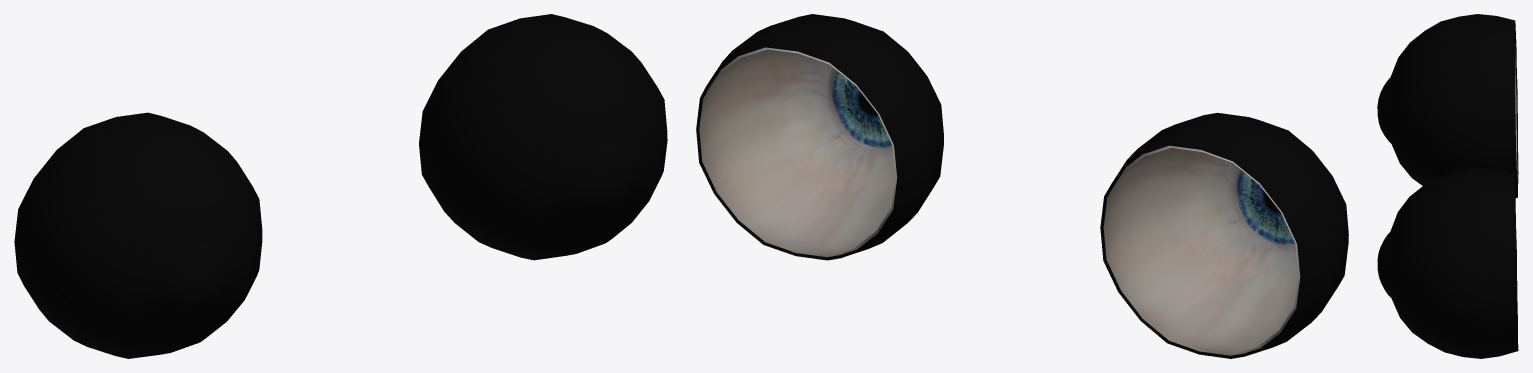
The model's file is sav4-original-eyes.glb.
3 views of the same model, side by side, from view 1: azimuth 30°, elevation 25°; view 2: azimuth 150°, elevation 25°; view 3: azimuth 270°, elevation 25° (orthographic). The views are drawn at different scales.
Visible parts, largest first — view 1: SAV4 original textured pale-blue MPFB eyes; view 2: SAV4 original textured pale-blue MPFB eyes; view 3: SAV4 original textured pale-blue MPFB eyes.
Part boxes in pixels (x1,y1,x2,y2): SAV4 original textured pale-blue MPFB eyes: (14,14,667,358); SAV4 original textured pale-blue MPFB eyes: (696,14,1348,358); SAV4 original textured pale-blue MPFB eyes: (1377,14,1518,358).
Size of the model in its own units: 0.0873 by 0.0295 by 0.022.
Materials: 1 (1 with a texture image).
